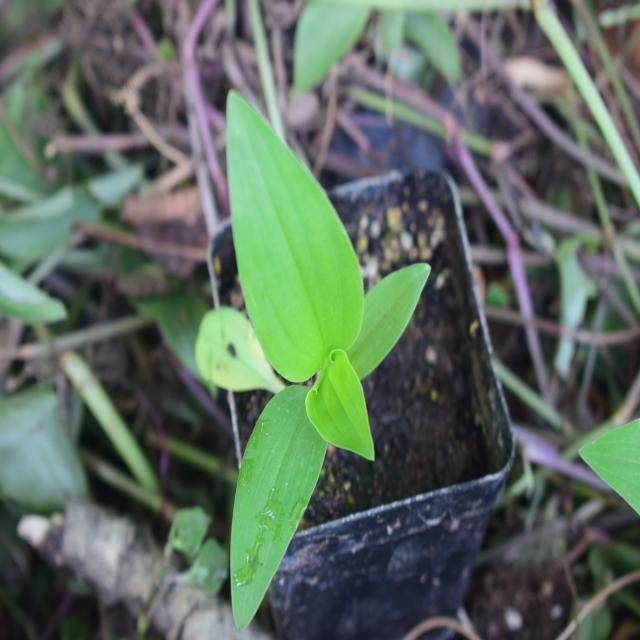Common Dayflower: (163, 82, 418, 561)
